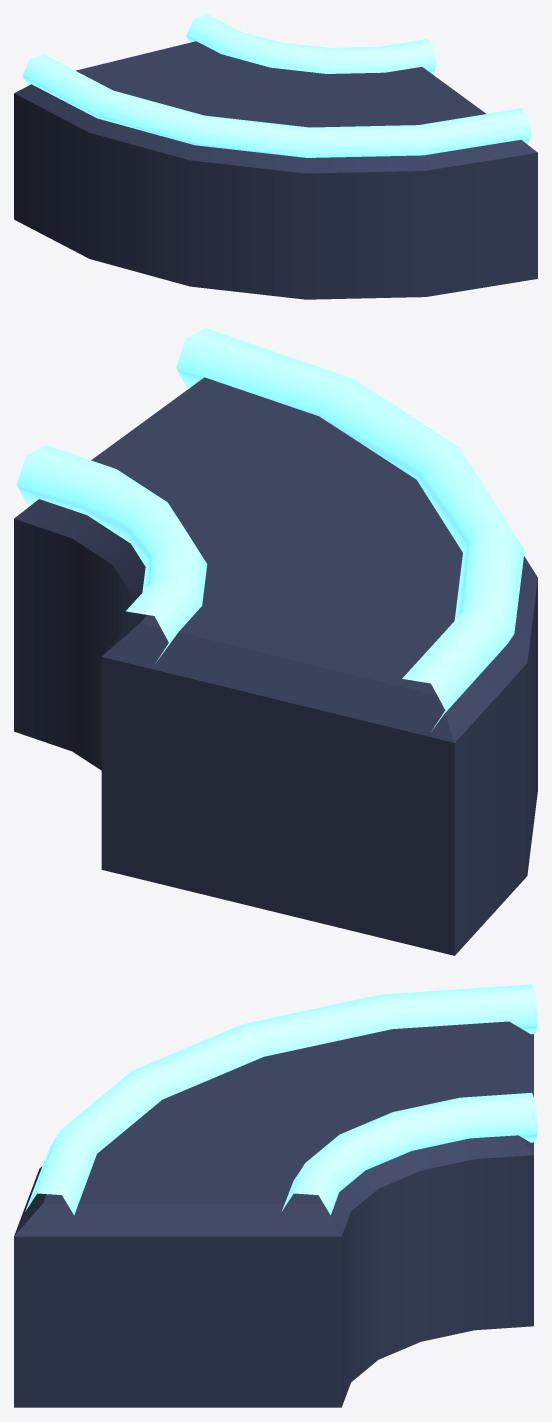
The model's file is wall_corner.glb.
The picture shows the model from 3 angles, top to bottom: view 1: azimuth 30°, elevation 25°; view 2: azimuth 150°, elevation 25°; view 3: azimuth 270°, elevation 25°; orthographic projection. The views are drawn at different scales.
Parts seen in each view (by area): view 1: wall_corner; view 2: wall_corner; view 3: wall_corner.
Boxes of the visible parts, left/top/right/bottom form: wall_corner: left=14, top=14, right=537, bottom=299; wall_corner: left=14, top=328, right=537, bottom=955; wall_corner: left=14, top=984, right=537, bottom=1407.
Bounding box in the file's own units: 0.7355 × 0.3303 × 0.7355.
